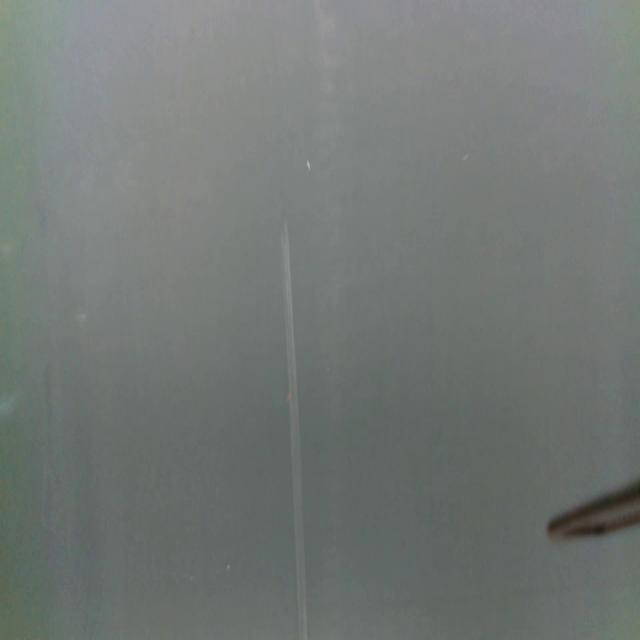crease: (281, 227, 308, 640)
